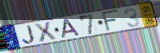3: (124, 7, 141, 27)
7: (78, 13, 96, 36)
A: (62, 18, 82, 40)
F: (100, 9, 120, 33)
J: (22, 24, 36, 44)
X: (32, 20, 58, 43)
